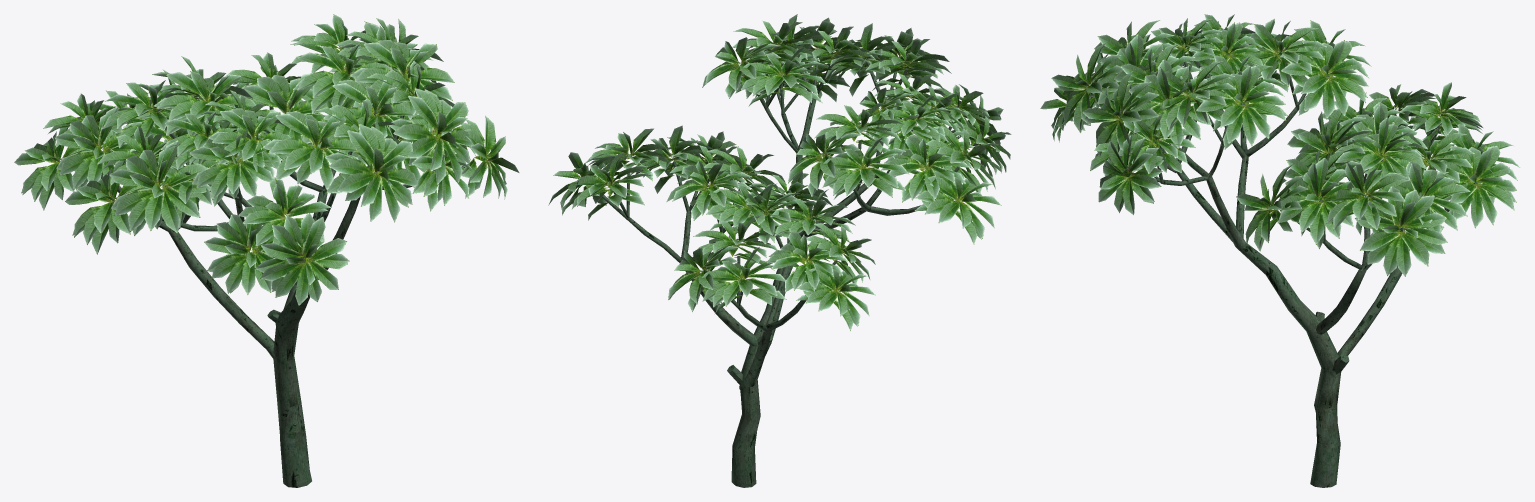
Rendered from tree-1.glb.
The picture shows the model from 3 angles, left to right: view 1: azimuth 30°, elevation 25°; view 2: azimuth 150°, elevation 25°; view 3: azimuth 270°, elevation 25°; orthographic projection. The views are drawn at different scales.
Parts seen in each view (by area): view 1: Object_4, Object_10; view 2: Object_4, Object_10; view 3: Object_4, Object_10.
Part boxes in pixels (box(x1,y1,x2,y2)): Object_4: box(14, 14, 519, 305); Object_10: box(103, 62, 476, 487); Object_4: box(548, 14, 1011, 330); Object_10: box(602, 56, 979, 487); Object_4: box(1040, 14, 1519, 276); Object_10: box(1120, 52, 1477, 487).
Size of the model in its own units: 211 by 231 by 230.
Materials: 3 (2 with a texture image).
